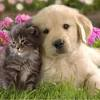cat: (6, 22, 44, 55)
dog: (29, 4, 93, 56)
